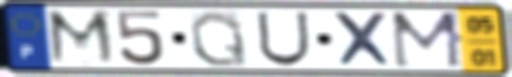5: (113, 9, 168, 67)
M: (388, 10, 468, 71), (43, 8, 121, 68)
Q: (187, 9, 251, 69)
U: (254, 10, 312, 68)
X: (328, 11, 399, 69)
